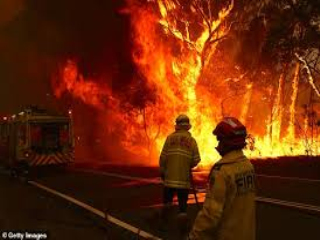fire: (62, 17, 311, 164)
